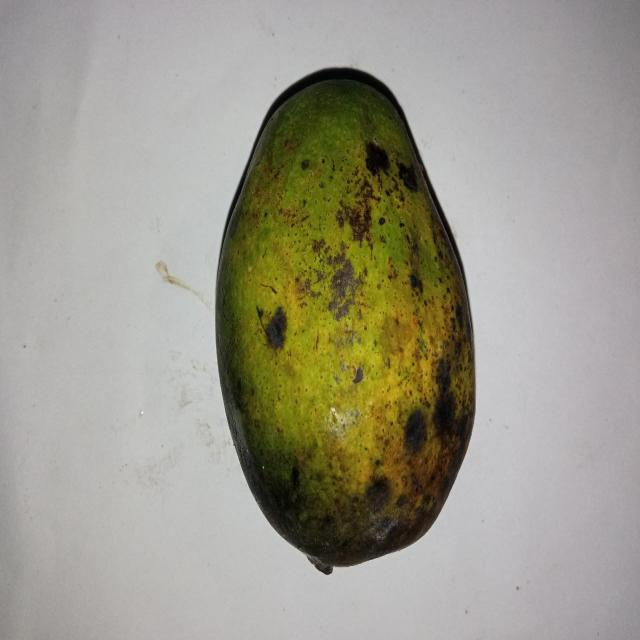rotten_mango: (213, 72, 472, 571)
